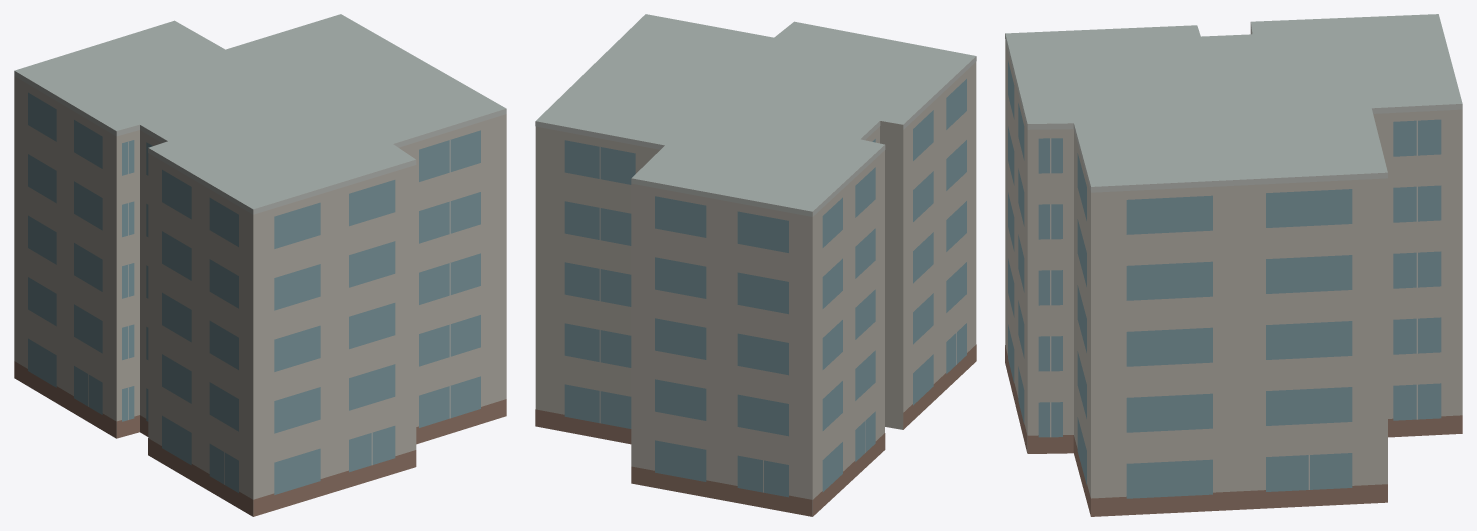
File: survey-upis-32937534.glb
3 renders of one model, left to right at view 1: azimuth 30°, elevation 25°; view 2: azimuth 150°, elevation 25°; view 3: azimuth 270°, elevation 25°, orthographic. The views are drawn at different scales.
Visible parts, largest first — view 1: survey-upis-32937534.tmp; view 2: survey-upis-32937534.tmp; view 3: survey-upis-32937534.tmp.
Part boxes in pixels (x1,y1,x2,y2): survey-upis-32937534.tmp: [14, 14, 506, 516]; survey-upis-32937534.tmp: [535, 14, 976, 516]; survey-upis-32937534.tmp: [1005, 14, 1462, 516].
Bounding box in the file's own units: 15.75 × 14 × 17.6.
